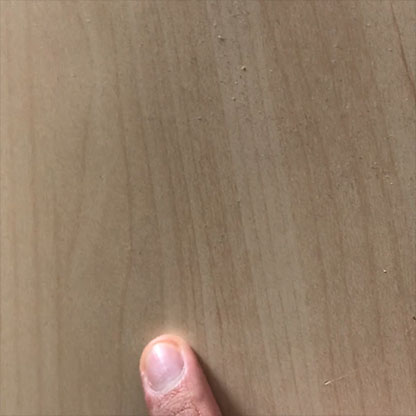fingertip: (125, 325, 206, 405)
